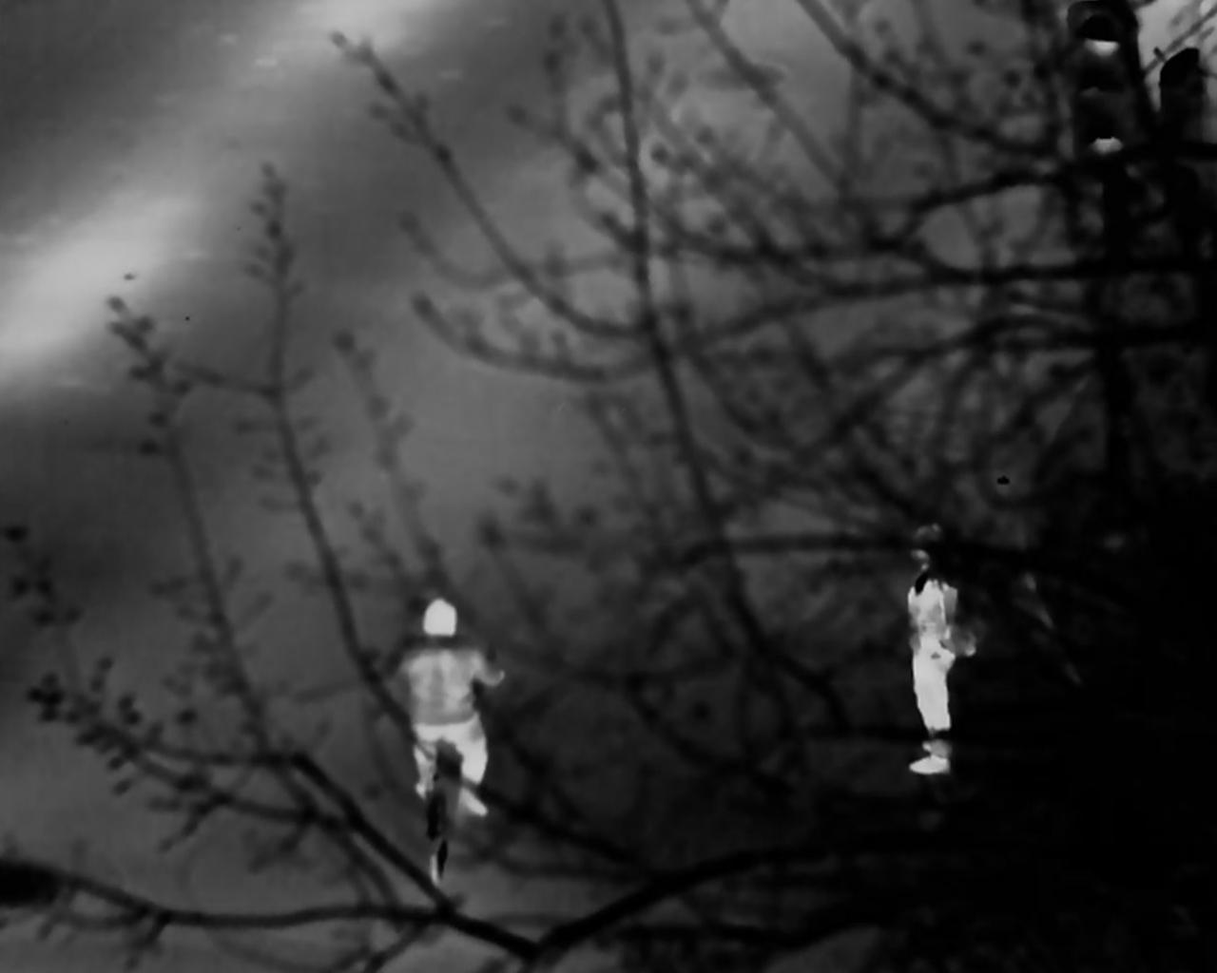person: (393, 600, 512, 835), (908, 519, 975, 778)
